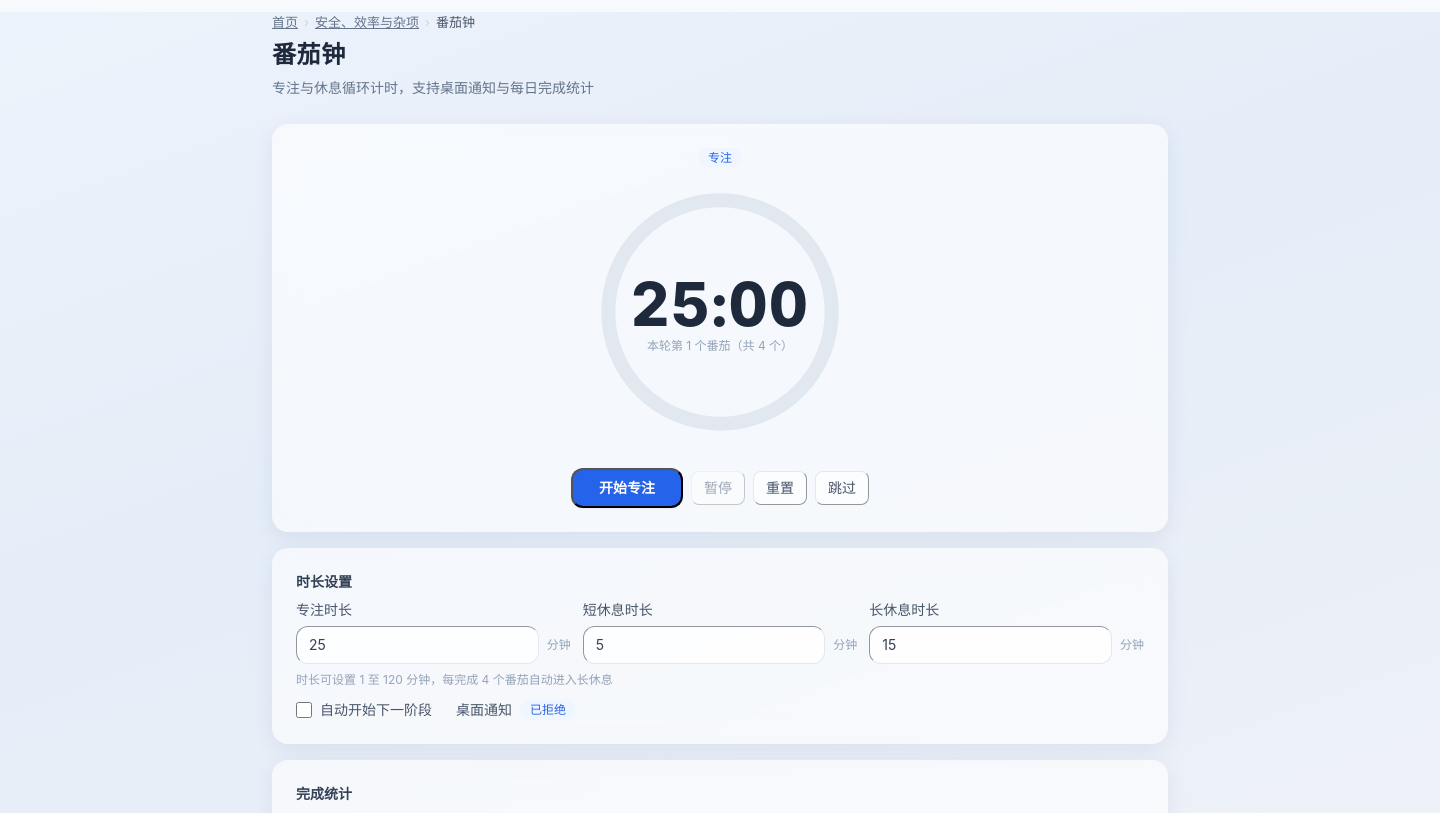
Test: PomodoroTimer 组件测试 › 暂停后倒计时停止
Click the button "开始专注": (627, 488) x1=571 y1=468 x2=683 y2=508
Wait 2000 ms
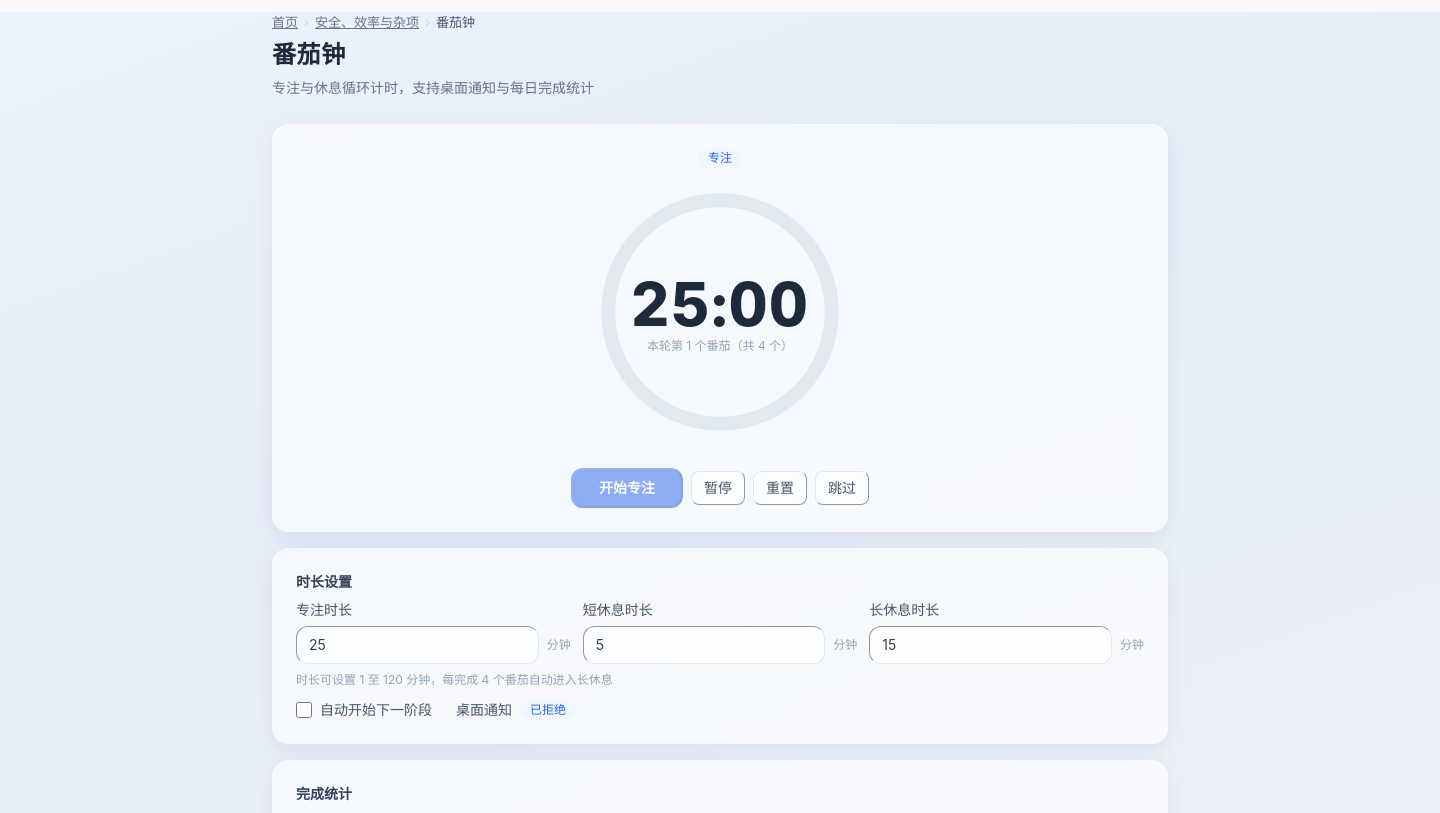
Click the button "暂停": (718, 488) x1=691 y1=471 x2=745 y2=505
Wait 5000 ms
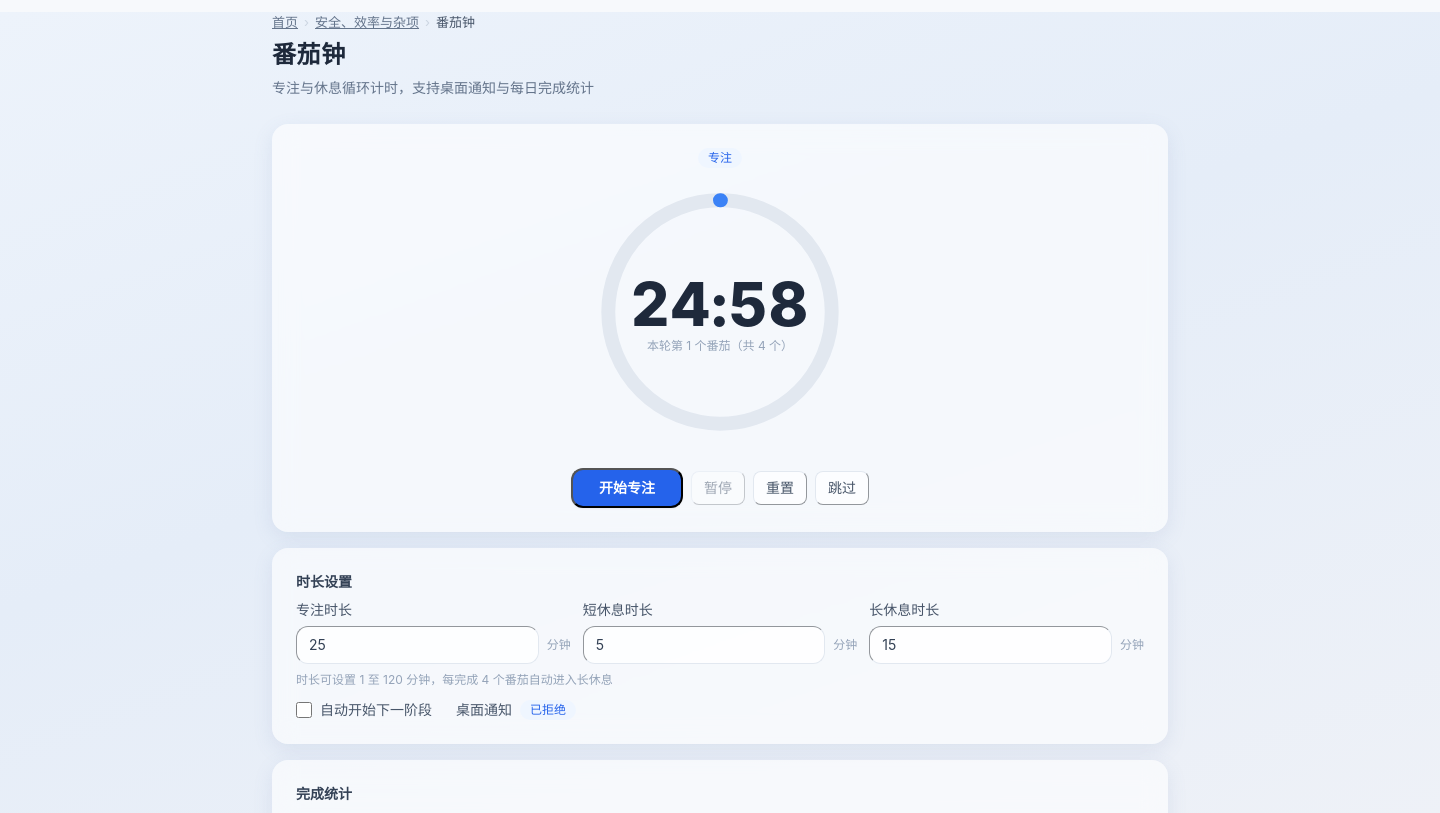
Now the text "24:58" is shown, box x1=631 y1=274 x2=809 y2=334
